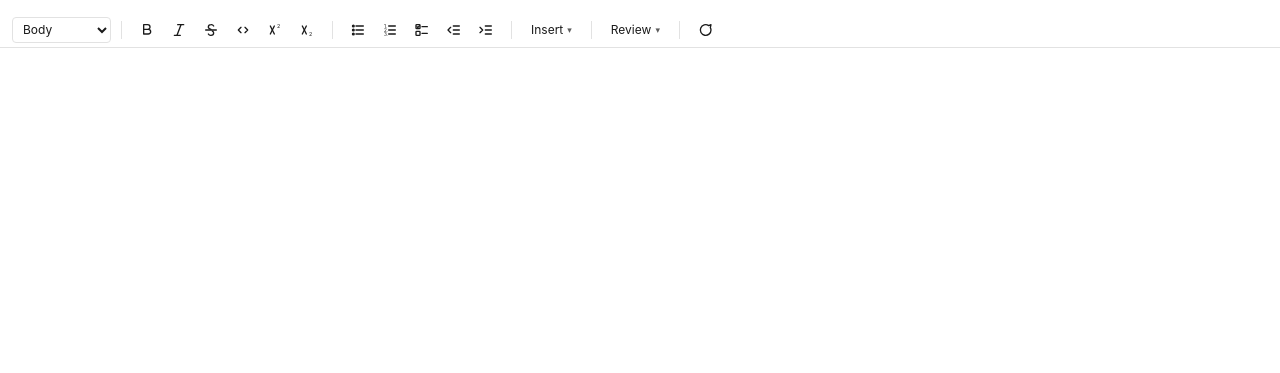
Test: EditorToolbar — 삽입/검토 드롭다운 › 삽입 메뉴를 열면 10개 액션이 모두 드러난다
This screenshot has width=1280, height=373.
Click the button "Insert ▾".
click(551, 30)  # box [522,17,581,43]
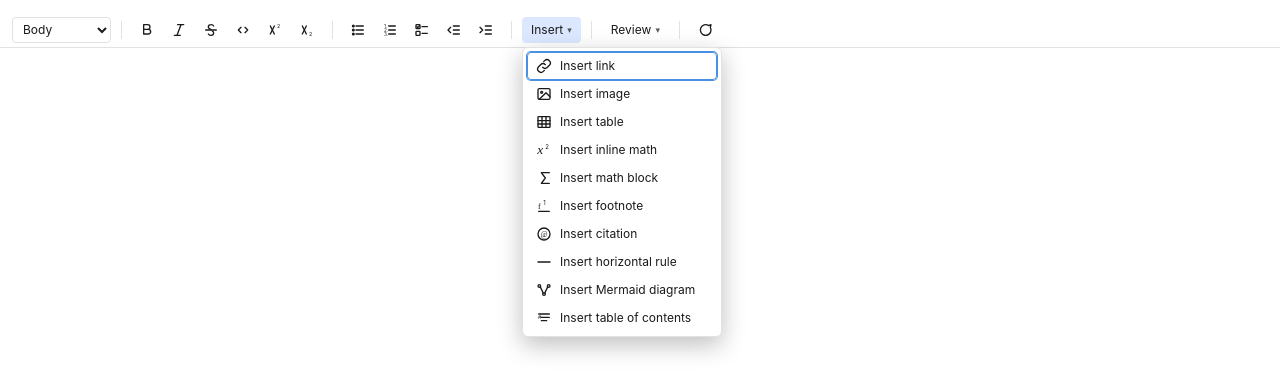
Expected: the number of menu items is 10
Expected: the menu item "Insert link" is shown, [527,52,717,80]
Expected: the menu item "Insert image" is shown, [527,80,717,108]
